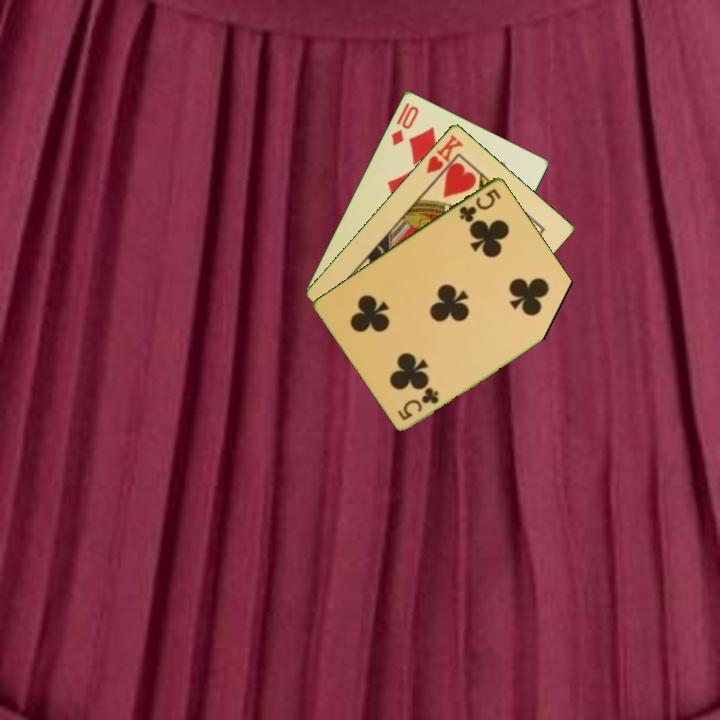10d: (387, 102, 422, 148)
5c: (456, 184, 504, 225), (394, 384, 442, 423)
Kh: (423, 130, 466, 184)
